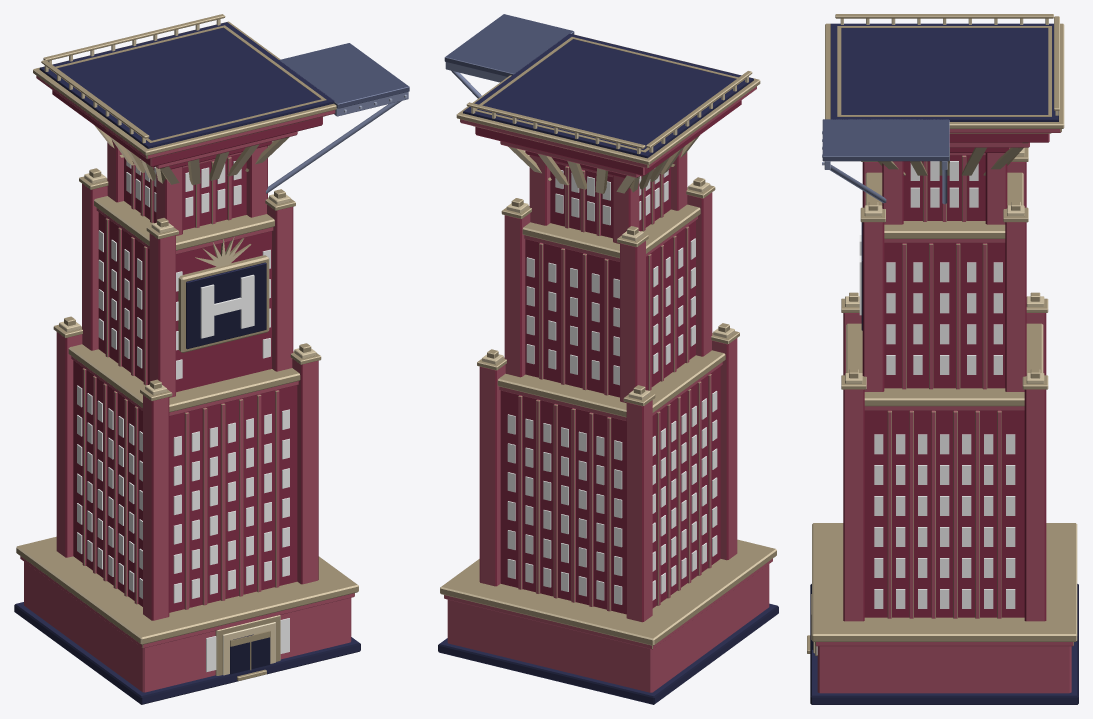
The model's file is Intro_Tower.fbx.
The picture shows the model from 3 angles, left to right: view 1: azimuth 30°, elevation 25°; view 2: azimuth 150°, elevation 25°; view 3: azimuth 270°, elevation 25°; orthographic projection. The views are drawn at different scales.
Parts seen in each view (by area): view 1: Intro_Tower, Intro_Tower_Windows, Intro_Tower_Sign; view 2: Intro_Tower, Intro_Tower_Windows; view 3: Intro_Tower, Intro_Tower_Windows.
Part boxes in pixels (<box>): Intro_Tower: <box>14,14,409,704</box>; Intro_Tower_Windows: <box>77,159,289,671</box>; Intro_Tower_Sign: <box>200,274,254,338</box>; Intro_Tower: <box>438,14,778,704</box>; Intro_Tower_Windows: <box>507,168,717,604</box>; Intro_Tower: <box>807,14,1078,704</box>; Intro_Tower_Windows: <box>816,161,1015,654</box>.
Bounding box in the file's own units: 68.5 × 133 × 55.7.
Materials: 1 (1 with a texture image).
